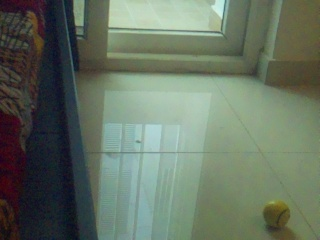ball: (263, 200, 290, 228)
